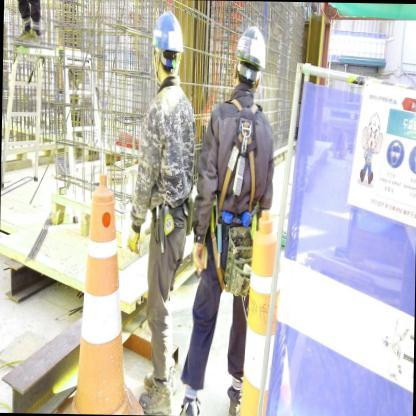Helmet: (146, 8, 187, 62)
safety-shoe: (138, 378, 172, 415)
